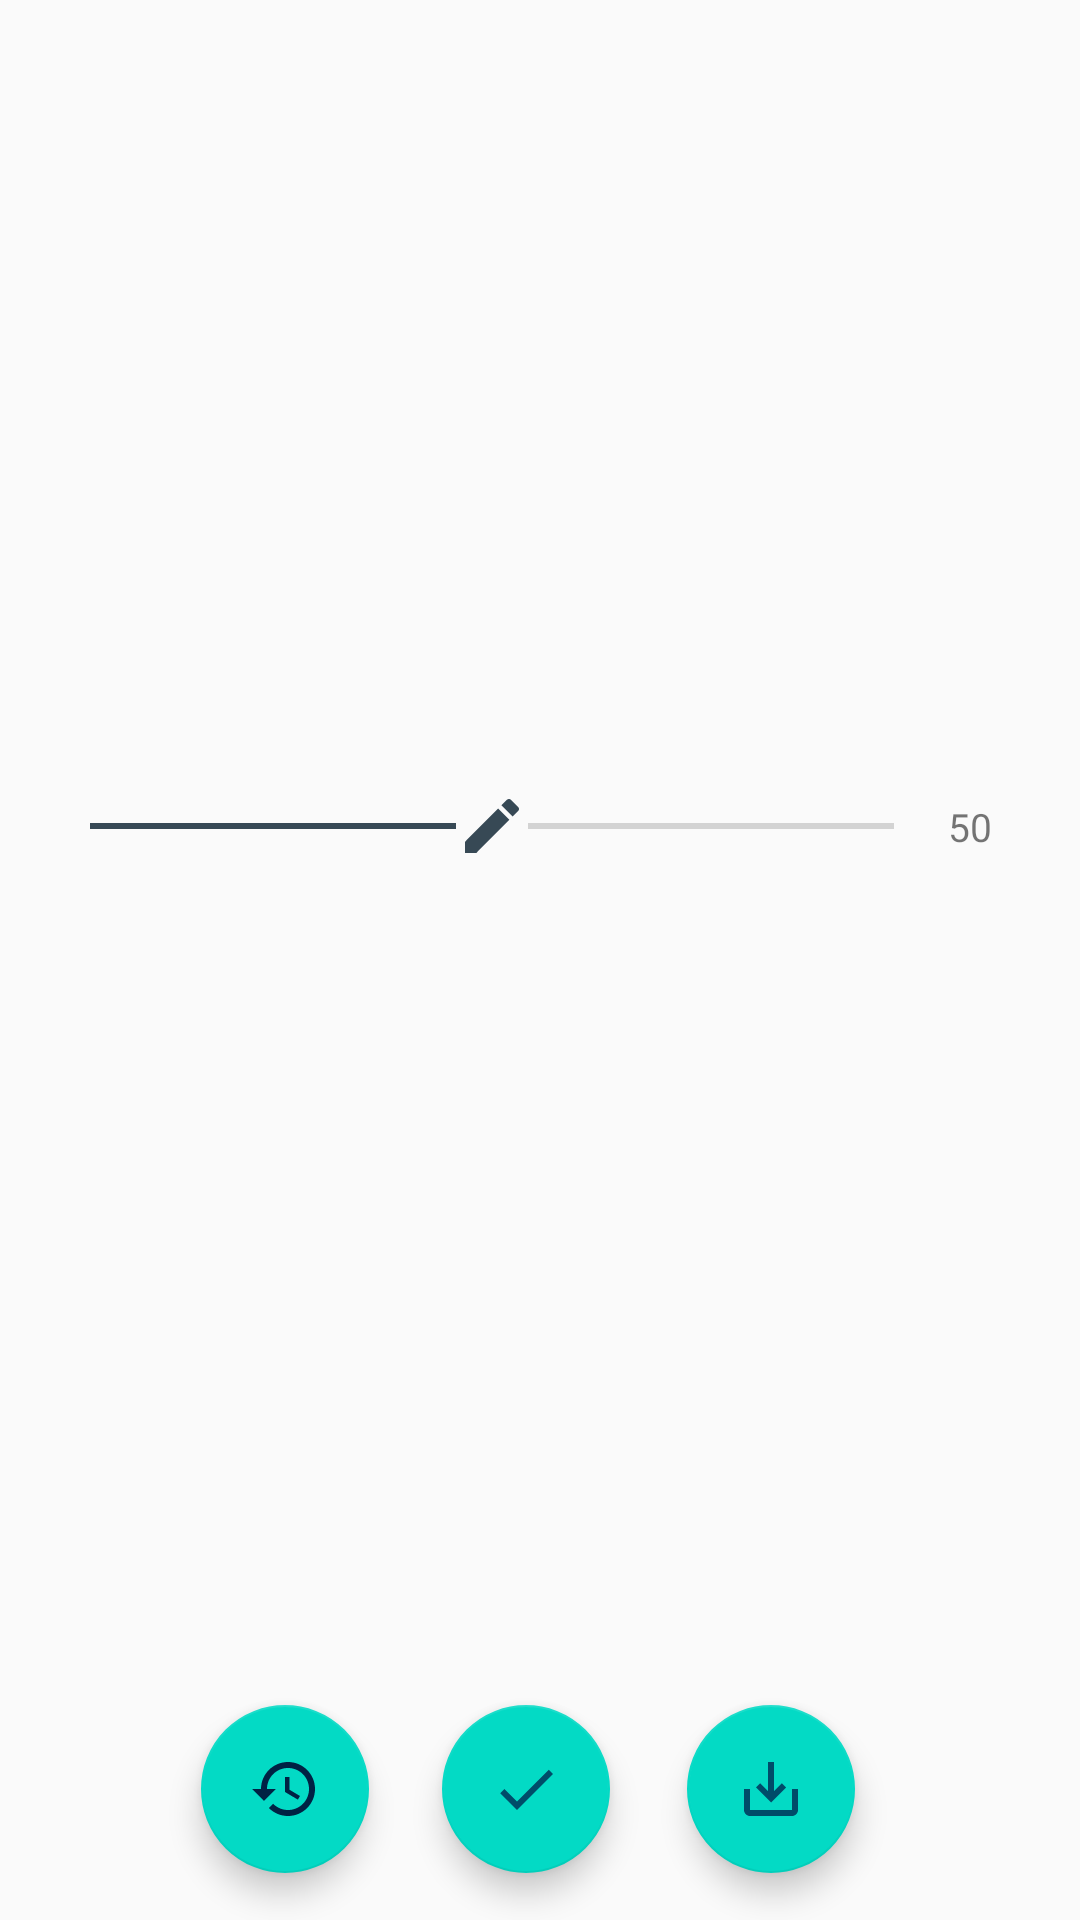

Locate icon controls on the screen. Image size 1080px x 1920px, boxes as (x1, y1, x2, y2).
done: (442, 1705, 610, 1873)
prev: (201, 1705, 369, 1873)
save: (687, 1705, 855, 1873)
